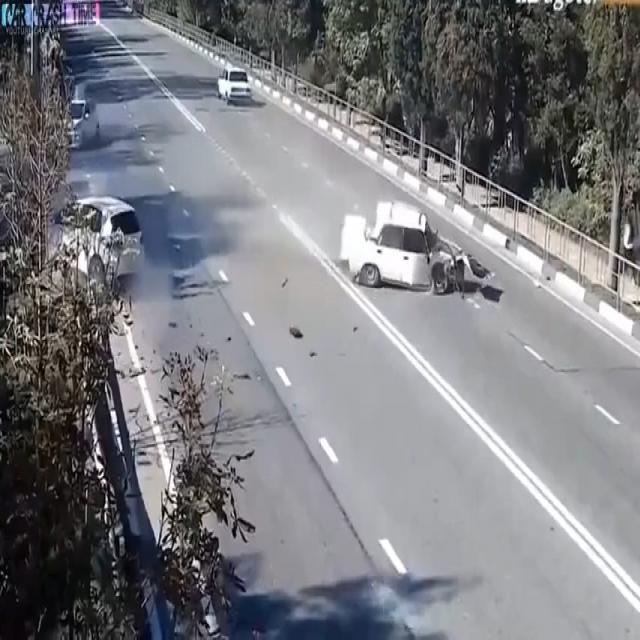Accident: (306, 149, 497, 346), (29, 166, 175, 304)
